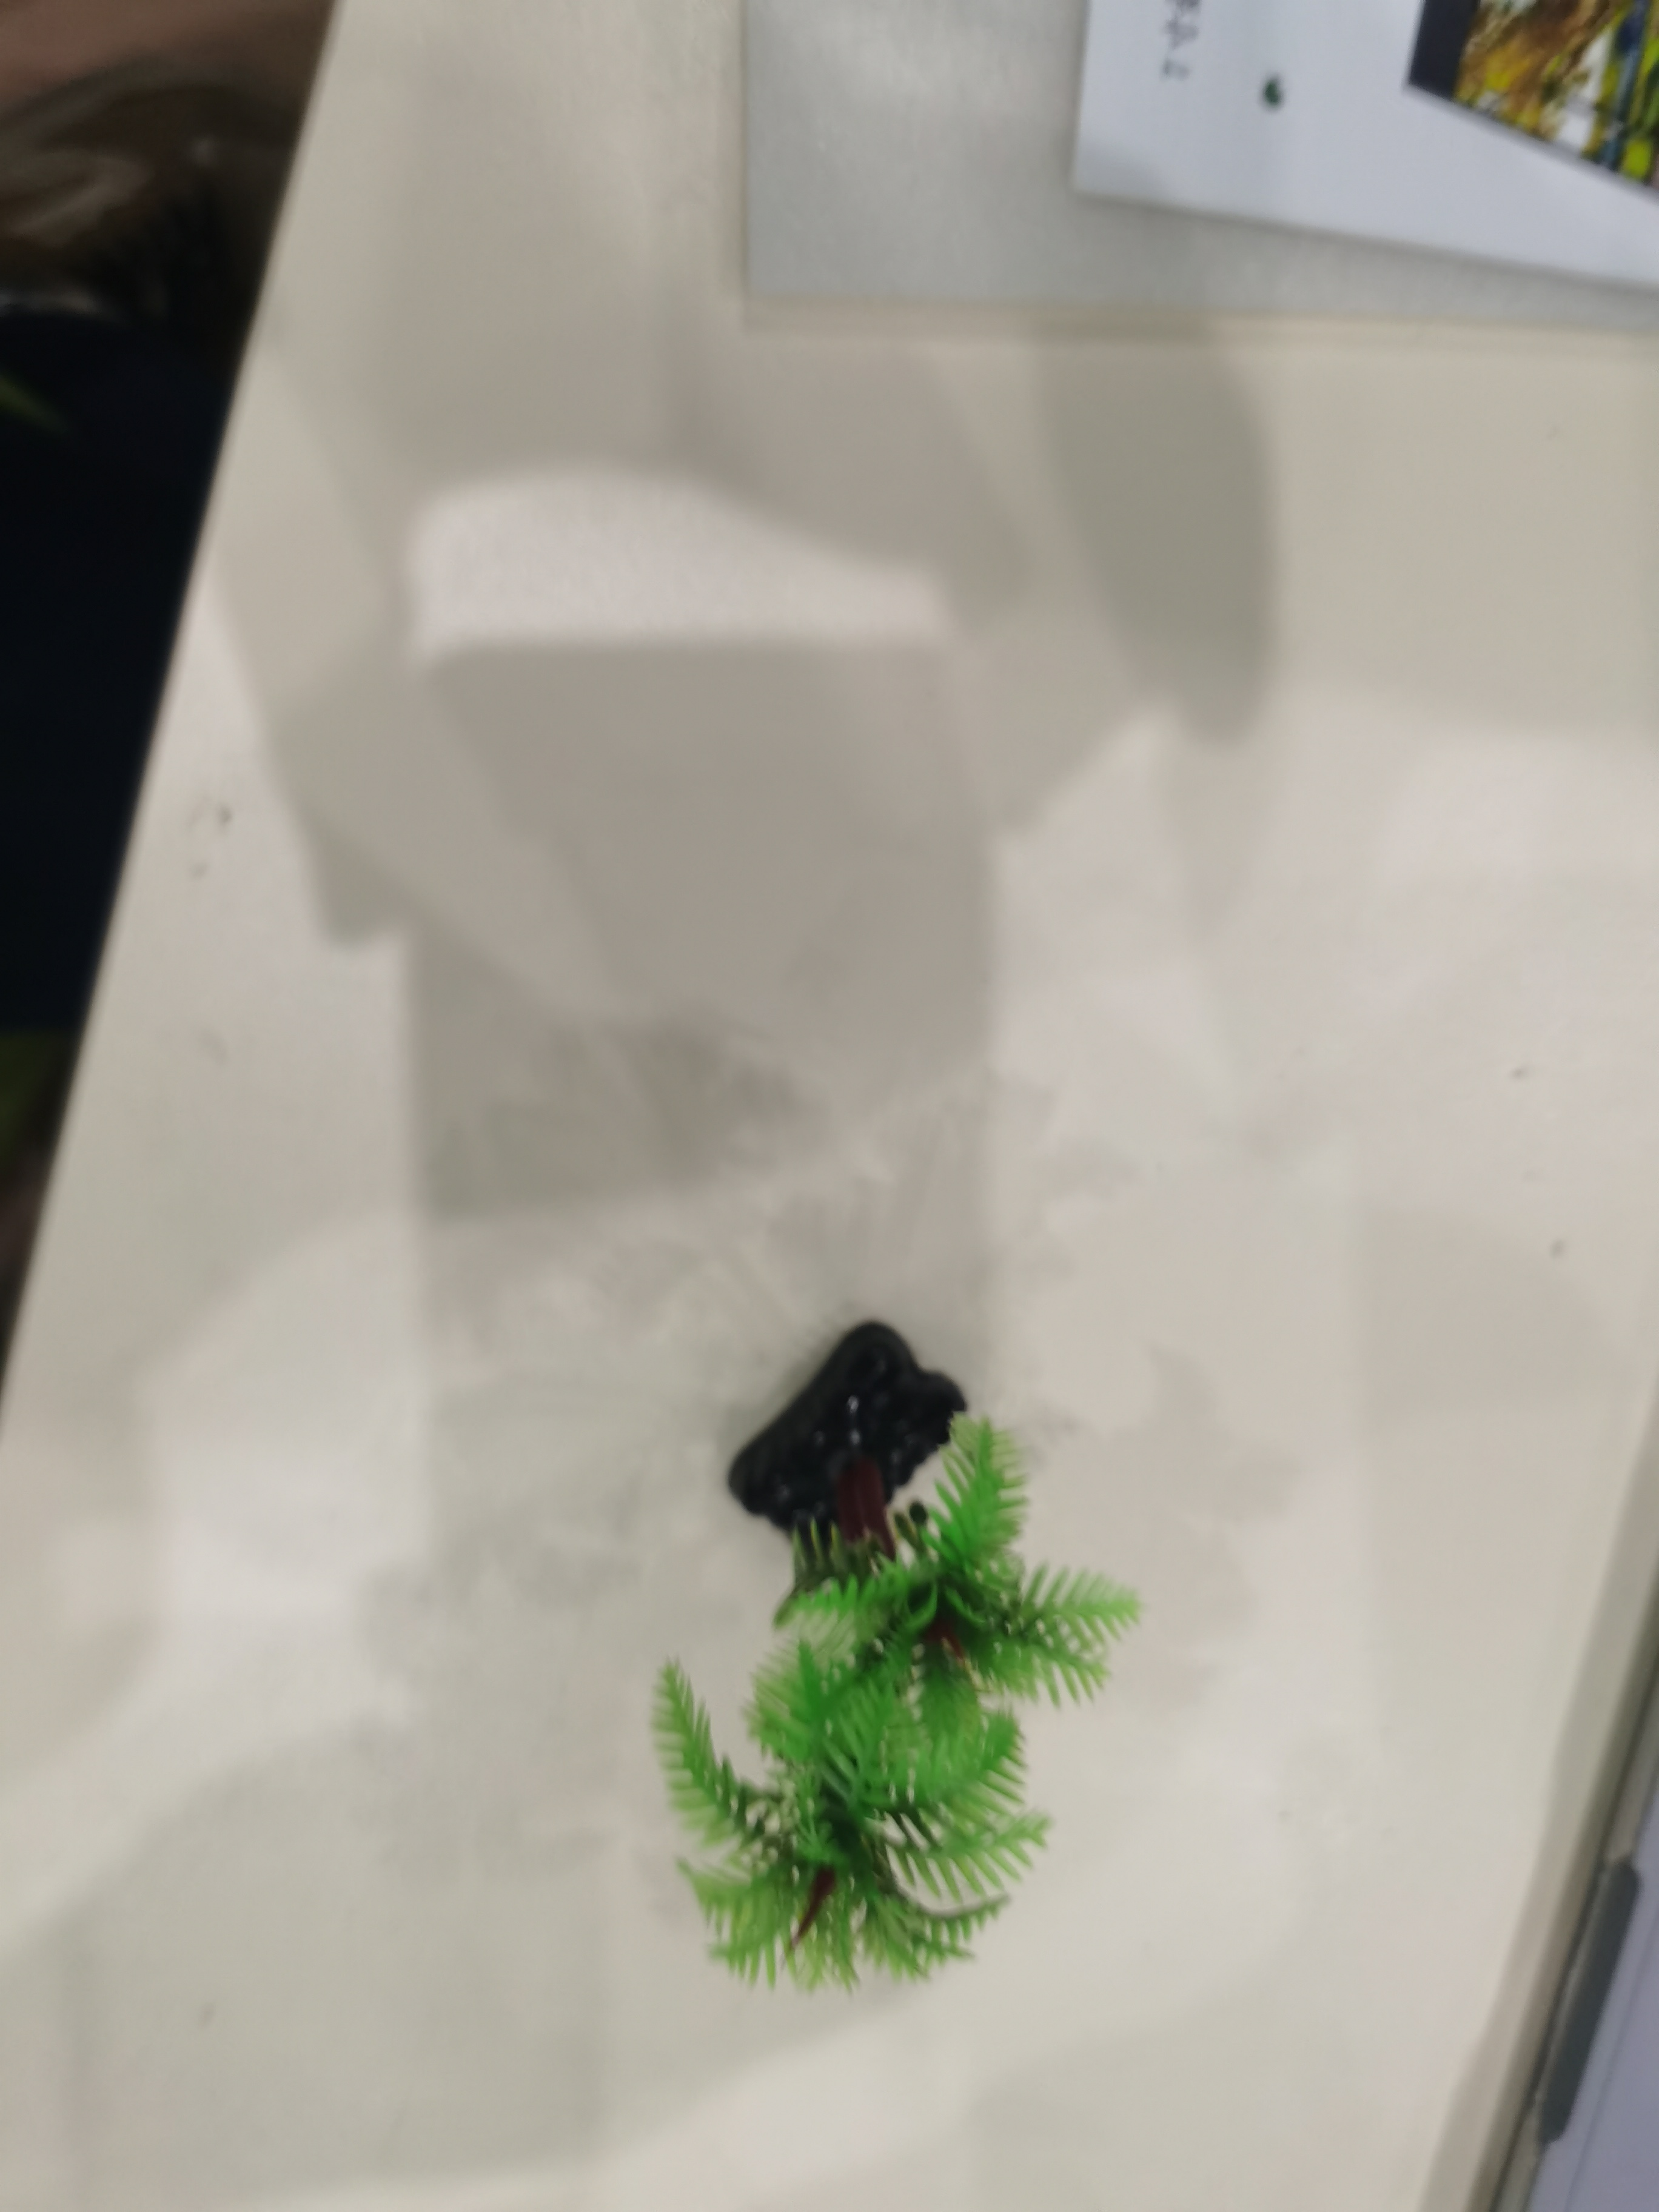corn: (683, 1308, 1124, 1982)
